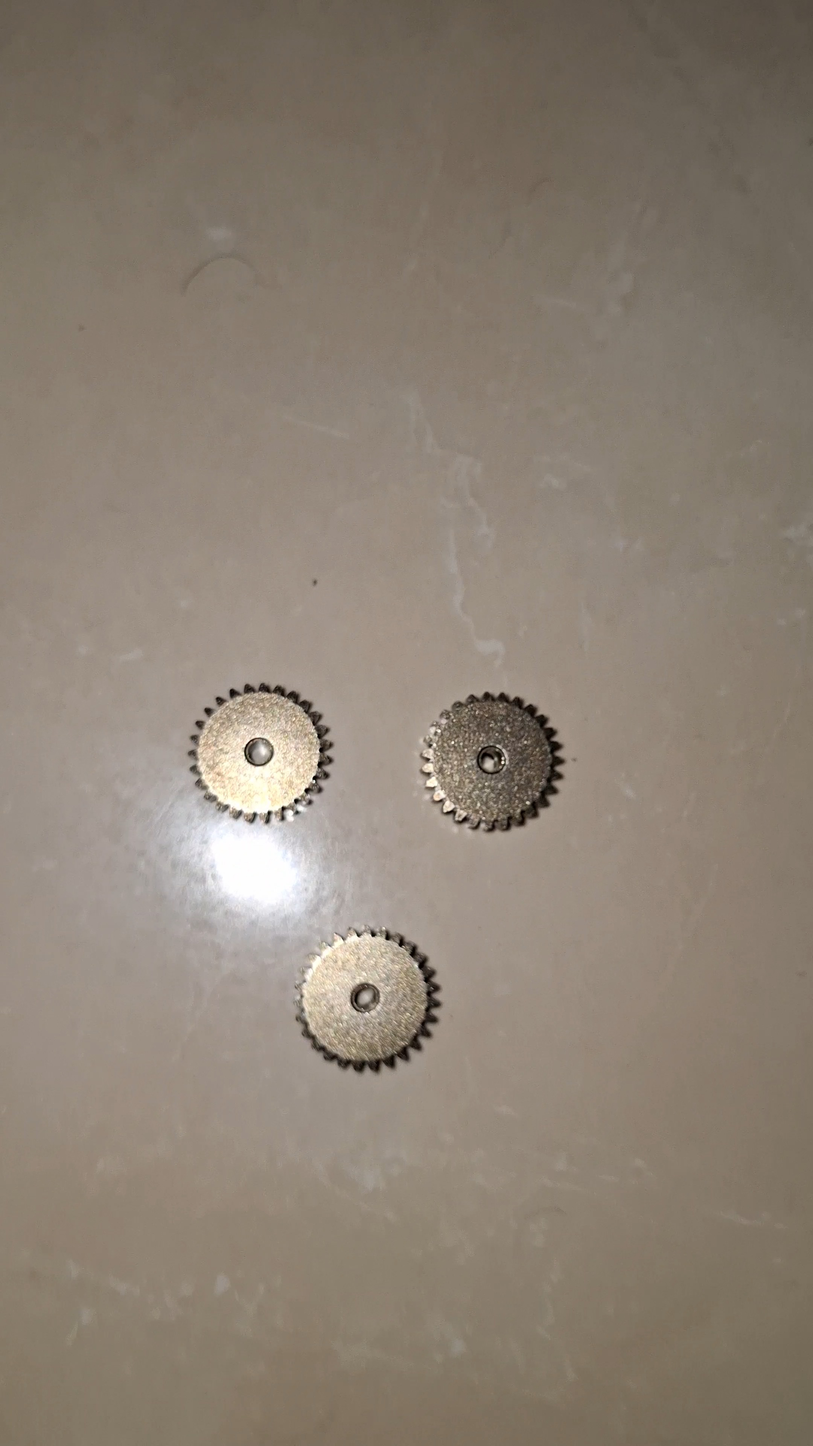spur gear: (297, 929, 439, 1071), (190, 684, 330, 822), (422, 692, 559, 829)
